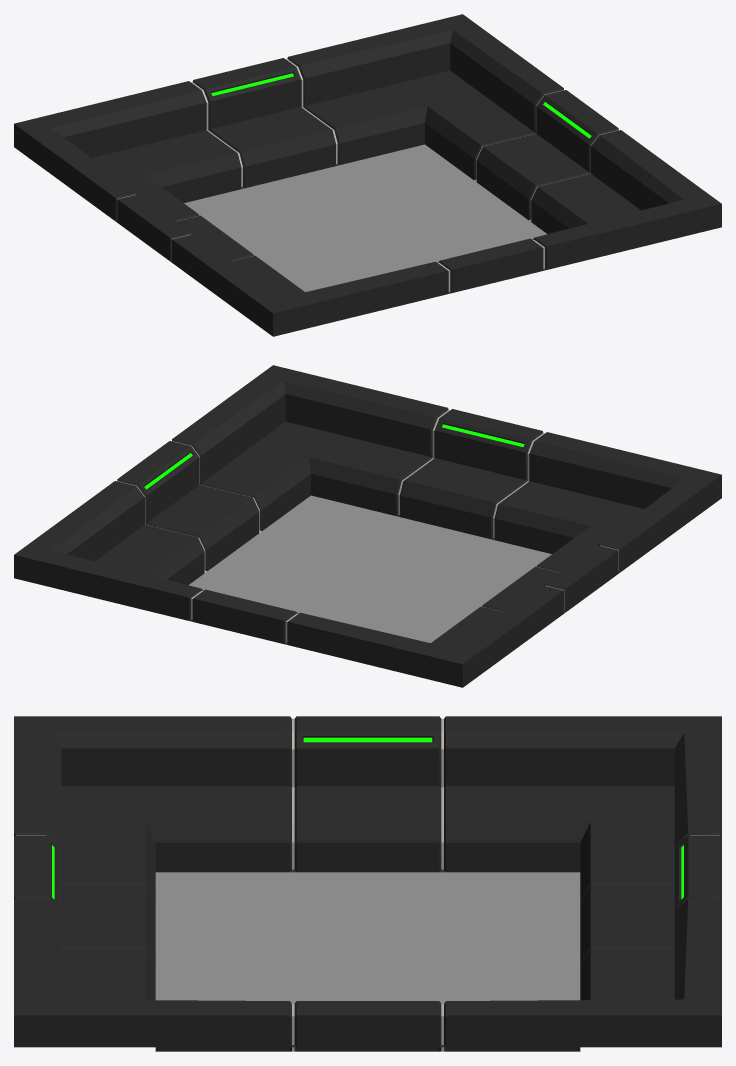
File: Floor_03_A_Interior.FBX
The picture shows the model from 3 angles, top to bottom: view 1: azimuth 30°, elevation 25°; view 2: azimuth 150°, elevation 25°; view 3: azimuth 270°, elevation 25°; orthographic projection. The views are drawn at different scales.
Parts seen in each view (by area): view 1: Floor_03_A_Interior_LOD0; view 2: Floor_03_A_Interior_LOD0; view 3: Floor_03_A_Interior_LOD0.
Part boxes in pixels (<box>): Floor_03_A_Interior_LOD0: <box>14,14,721,336</box>; Floor_03_A_Interior_LOD0: <box>14,365,721,687</box>; Floor_03_A_Interior_LOD0: <box>14,716,721,1051</box>.
Size of what is drawn, in the model's own units: 180 by 27 by 180.
